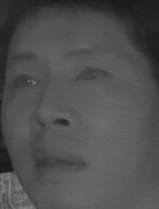eye: (76, 62, 111, 87), (8, 70, 41, 94)
mouth: (27, 142, 89, 178)
